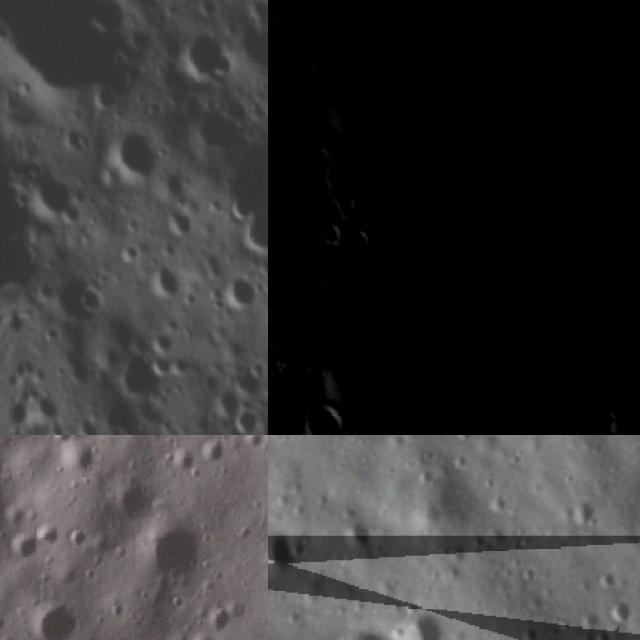crater: (137, 518, 208, 585), (220, 181, 268, 255), (110, 126, 163, 188), (28, 589, 84, 640), (175, 31, 233, 80), (102, 473, 156, 522), (114, 352, 174, 396), (334, 503, 374, 552), (317, 617, 400, 640), (56, 444, 100, 481), (306, 400, 352, 435), (226, 399, 268, 435), (268, 524, 297, 575), (163, 444, 199, 485), (393, 614, 448, 640), (225, 277, 262, 314), (6, 530, 44, 564), (204, 597, 235, 632), (198, 435, 230, 466), (567, 498, 599, 529), (613, 591, 636, 625), (181, 625, 218, 640), (51, 435, 75, 446)
